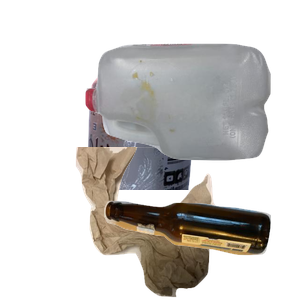glass: (101, 198, 300, 300)
metal: (82, 66, 270, 246)
plastic: (83, 41, 300, 194)
trash: (73, 147, 300, 300)
